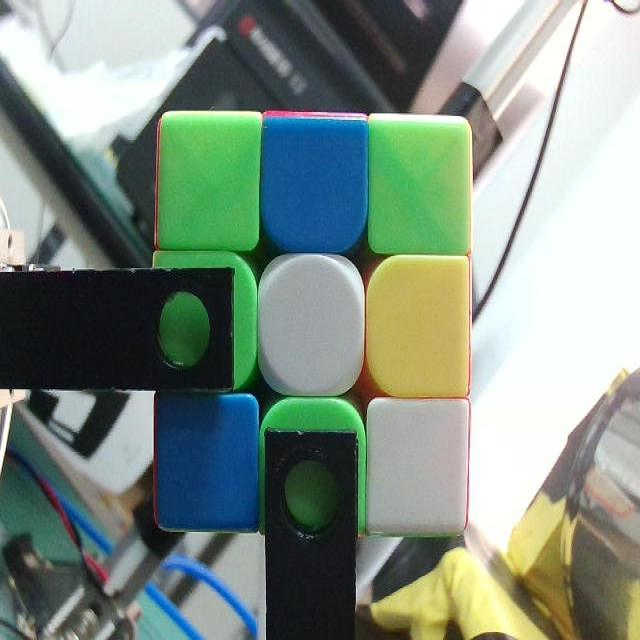b: (265, 114, 369, 248), (156, 396, 264, 520)
g: (265, 396, 364, 545), (369, 114, 473, 253), (158, 112, 260, 248), (158, 257, 261, 383)
w: (260, 263, 367, 391), (371, 397, 472, 528)
y: (368, 263, 477, 398)
